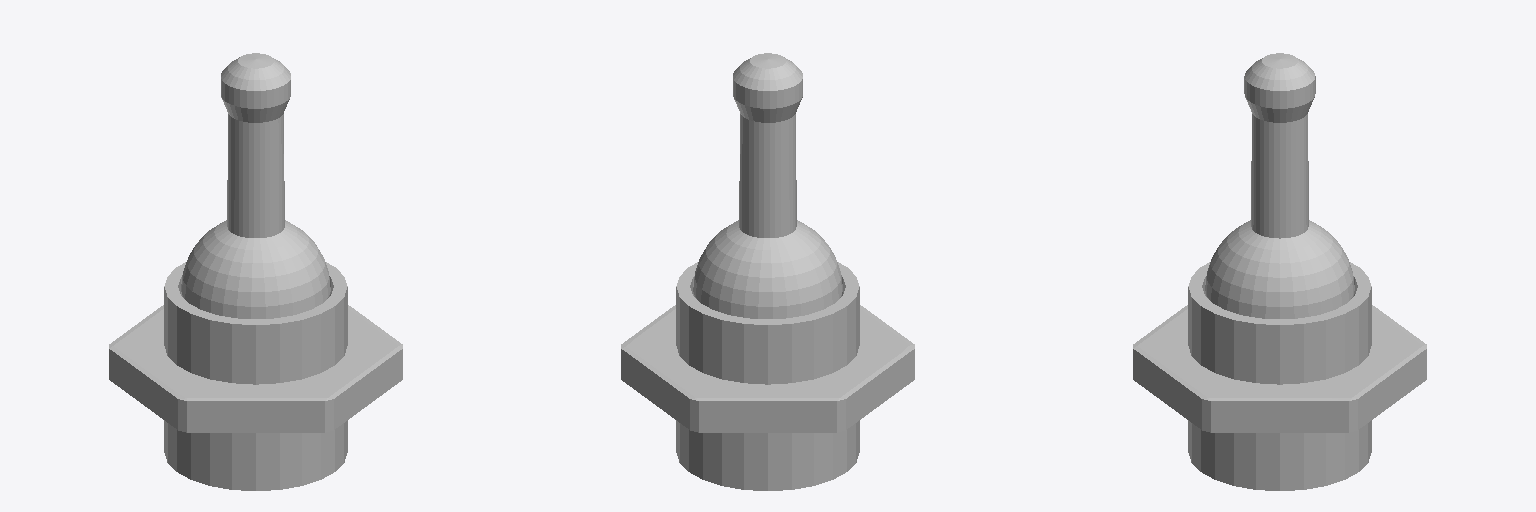
The model's file is tumbler.obj.
3 views of the same model, side by side, from view 1: azimuth 30°, elevation 25°; view 2: azimuth 150°, elevation 25°; view 3: azimuth 270°, elevation 25° (orthographic).
Visible parts, largest first — view 1: Cylinder.001, Sphere, Cylinder; view 2: Cylinder.001, Sphere, Cylinder; view 3: Cylinder.001, Sphere, Cylinder.
Boxes of the visible parts, x1,y1,x2,y2 form: Cylinder.001: [164, 262, 347, 490]; Sphere: [181, 53, 330, 318]; Cylinder: [109, 305, 402, 432]; Cylinder.001: [676, 262, 859, 490]; Sphere: [693, 53, 842, 318]; Cylinder: [621, 305, 914, 432]; Cylinder.001: [1188, 262, 1371, 490]; Sphere: [1205, 53, 1354, 318]; Cylinder: [1133, 305, 1426, 432].
Size of the model in its own units: 1.73 by 2.9 by 1.96.